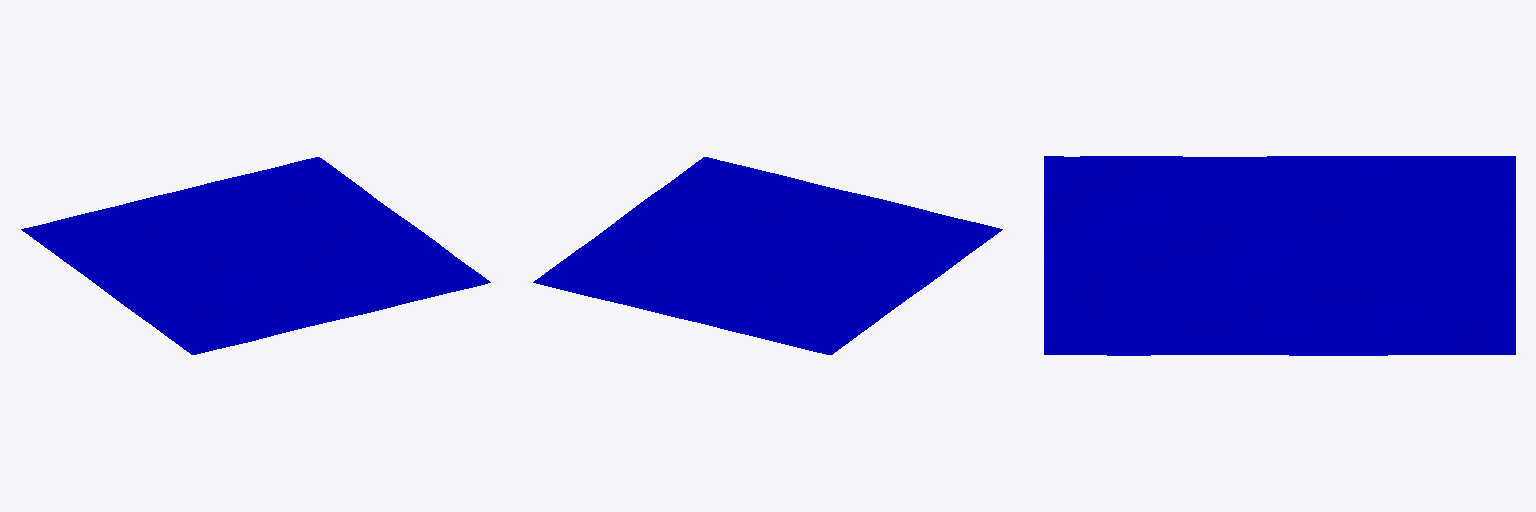
URDF robot description (terrain):
<?xml version="1.0" ?>
<!-- =================================================================================== -->
<!-- |    This document was autogenerated by xacro from terrain.urdf.xacro             | -->
<!-- |    EDITING THIS FILE BY HAND IS NOT RECOMMENDED                                 | -->
<!-- =================================================================================== -->
<robot name="terrain">
  <link name="world"/>
  <link name="terrain_link">
    <visual>
      <origin rpy="0 0 0" xyz="0 0 0"/>
      <geometry>
        <mesh filename="package://gazebo_sim/urdf/meshes/terrain3.dae" scale="8 8 1"/>
      </geometry>
      <material name="blue">
        <color rgba="0 0 0.8 1"/>
      </material>
    </visual>
    <collision>
      <origin rpy="0 0 0" xyz="0 0 0"/>
      <geometry>
        <mesh filename="package://gazebo_sim/urdf/meshes/terrain3.dae" scale="8 8 1"/>
      </geometry>
    </collision>
    <inertial>
      <mass value="1.0"/>
      <origin rpy="0 0 0" xyz="0 0 0"/>
      <inertia ixx="0.1" ixy="0.0" ixz="0.0" iyy="0.1" iyz="0.0" izz="0.1"/>
    </inertial>
  </link>
  <joint name="terrain_joint" type="fixed">
    <parent link="world"/>
    <child link="terrain_link"/>
    <origin rpy="0 0 0" xyz="0 0 0"/>
  </joint>
  <gazebo>
    <static>true</static>
  </gazebo>
</robot>

--- Render facts (derived) ---
The picture shows the robot from 3 angles, left to right: view 1: azimuth 30°, elevation 25°; view 2: azimuth 150°, elevation 25°; view 3: azimuth 270°, elevation 25°; orthographic projection.
Model terrain with 2 links and 1 joints (1 fixed), rooted at world, posed all joints at 0.
Links seen in each view (by area): view 1: terrain_link; view 2: terrain_link; view 3: terrain_link.
Link boxes in pixels (x1,y1,x2,y2): terrain_link: (21, 157, 490, 354); terrain_link: (533, 157, 1002, 354); terrain_link: (1044, 156, 1515, 355).
Bounding box of the posed robot: 31.82 × 31.82 × 0.1491 m (x, y, z).
1 mesh visuals loaded from 1 distinct referenced files (1 Collada DAE).
